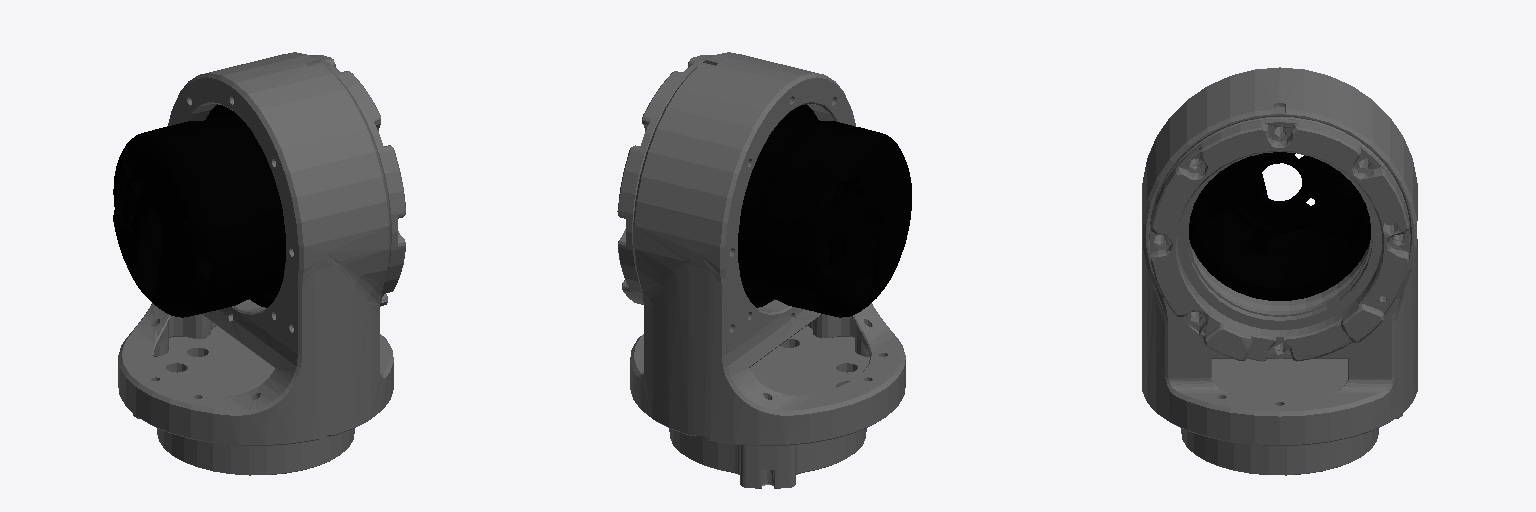
The model's file is left_upper_arm_pitch_link.obj.
3 views of the same model, side by side, from view 1: azimuth 30°, elevation 25°; view 2: azimuth 150°, elevation 25°; view 3: azimuth 270°, elevation 25° (orthographic).
Visible parts, largest first — view 1: left_upper_arm_pitch_link; view 2: left_upper_arm_pitch_link; view 3: left_upper_arm_pitch_link.
Boxes of the visible parts, x1,y1,x2,y2 form: left_upper_arm_pitch_link: [113, 52, 405, 475]; left_upper_arm_pitch_link: [617, 52, 911, 488]; left_upper_arm_pitch_link: [1142, 67, 1417, 475].
Size of the model in its own units: 0.074 by 0.1055 by 0.074.